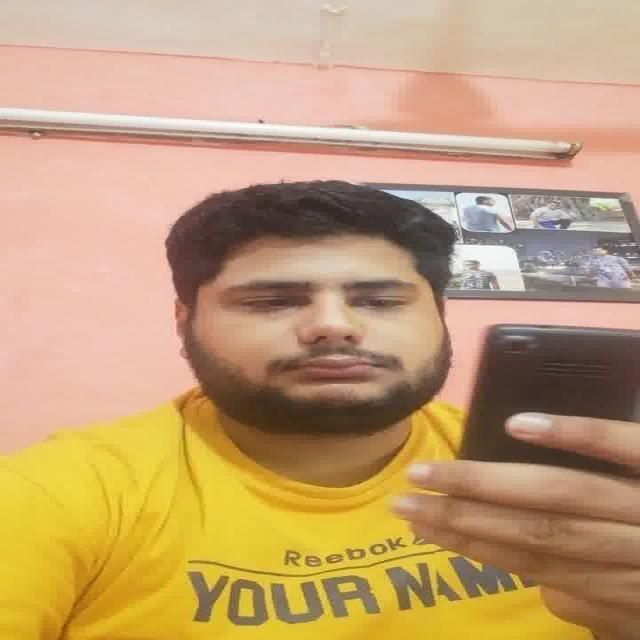Phone: (459, 324, 640, 479)
